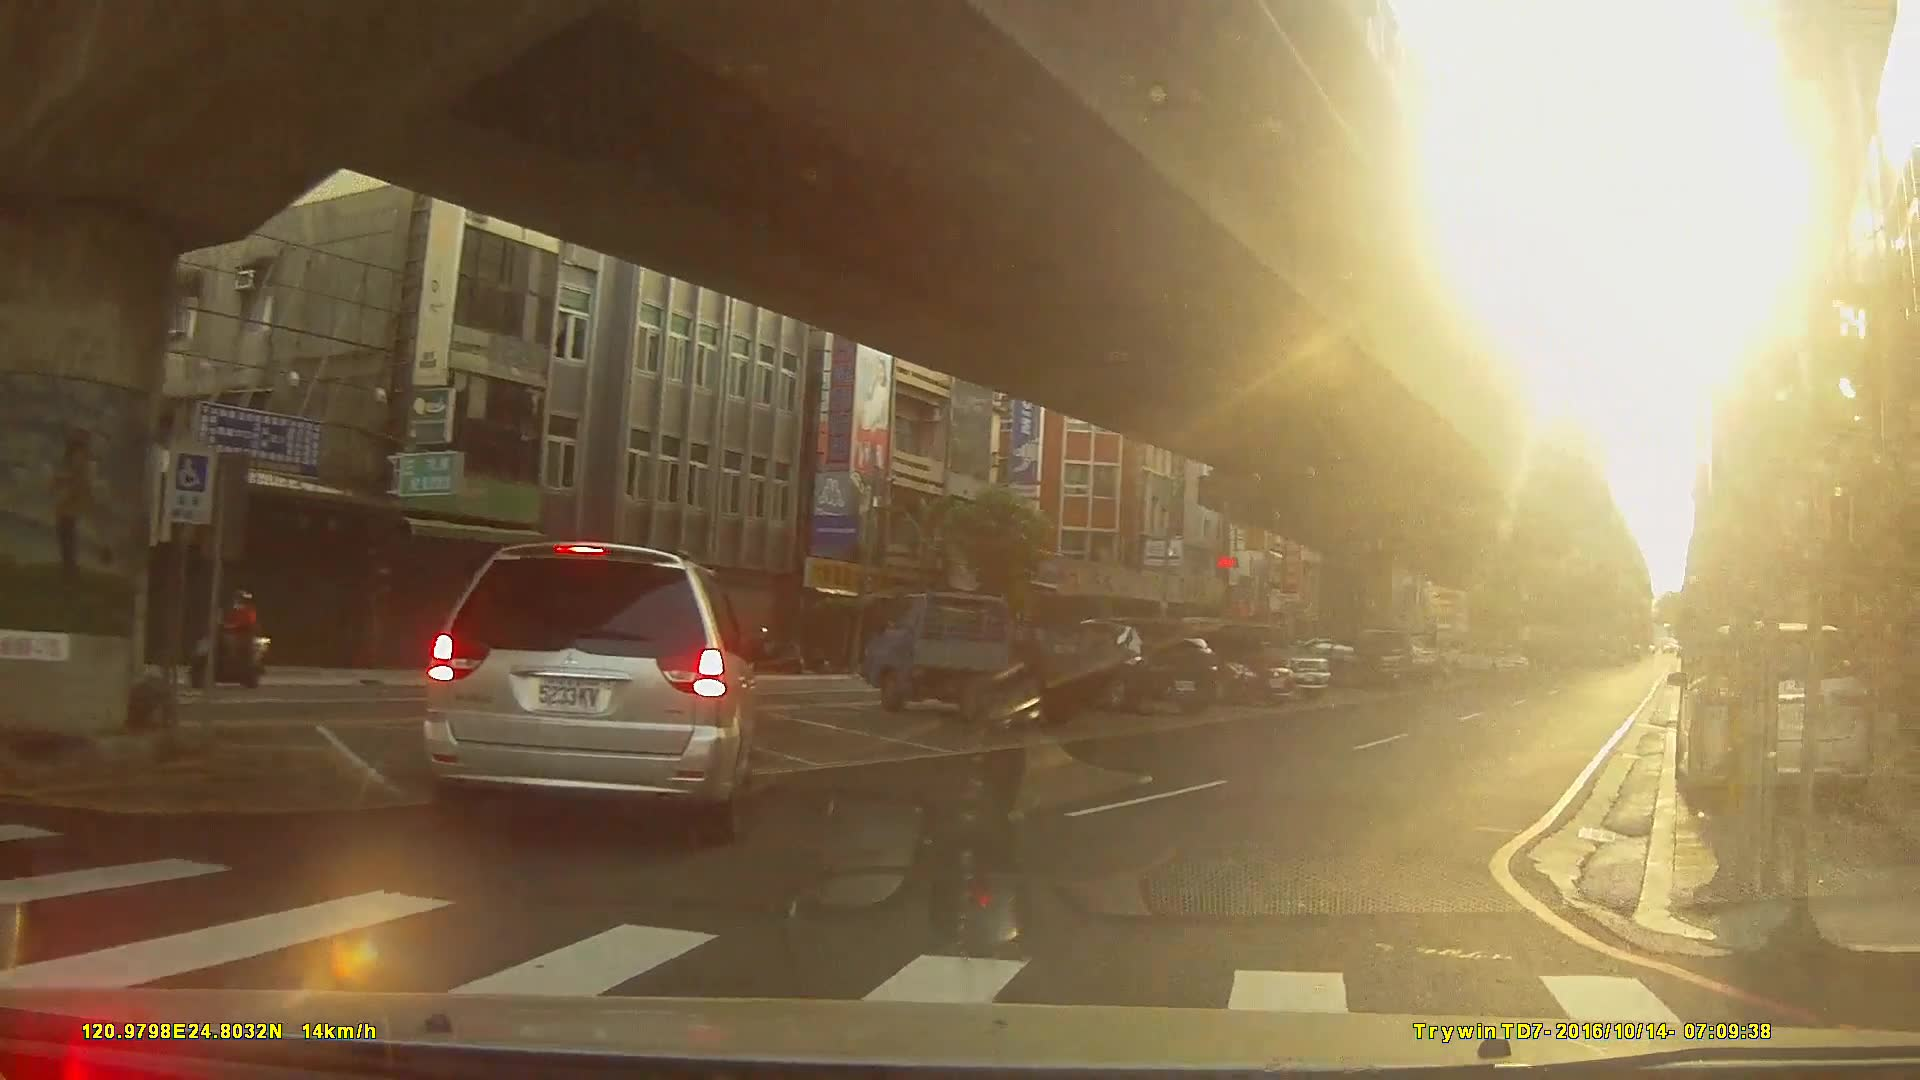rider: (177, 589, 267, 691)
vehicle: (422, 539, 759, 843), (1673, 620, 1874, 813), (860, 590, 1097, 723), (1040, 617, 1217, 717), (1130, 625, 1297, 707), (1270, 635, 1384, 689)
